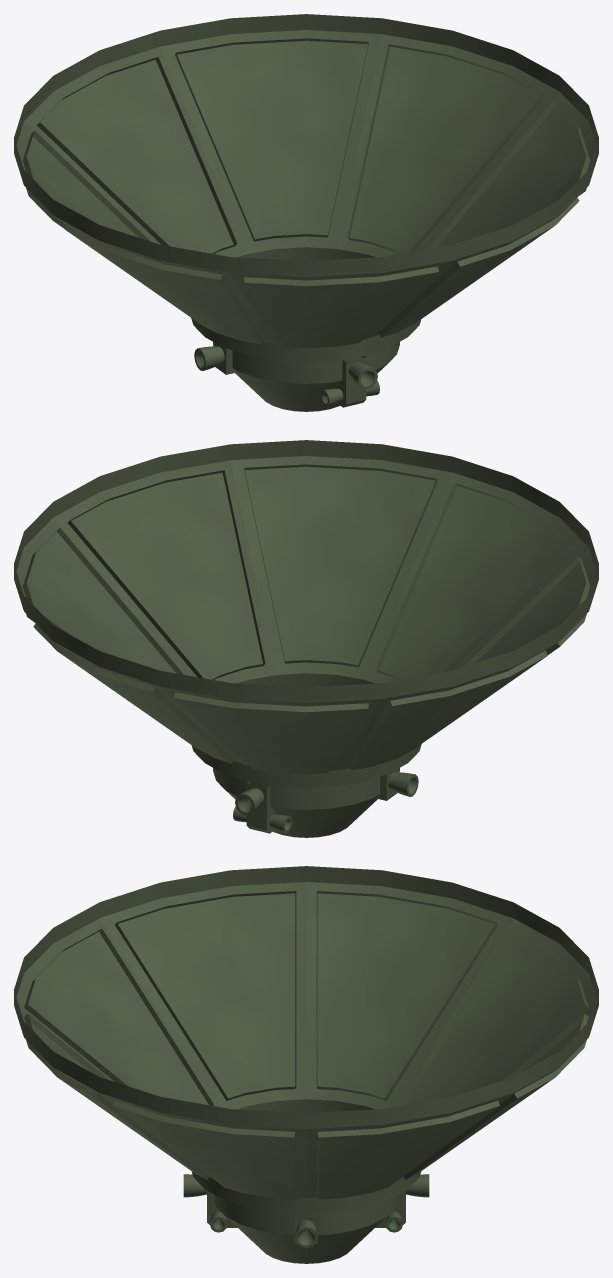
The model's file is engine.obj.
The picture shows the model from 3 angles, top to bottom: view 1: azimuth 30°, elevation 25°; view 2: azimuth 150°, elevation 25°; view 3: azimuth 270°, elevation 25°; orthographic projection.
Parts seen in each view (by area): view 1: 1; view 2: 1; view 3: 1.
Boxes of the visible parts, x1,y1,x2,y2 form: 1: [14, 14, 598, 411]; 1: [14, 440, 598, 837]; 1: [14, 866, 598, 1263].
Bounding box in the file's own units: 1.25 × 0.6 × 1.25.
